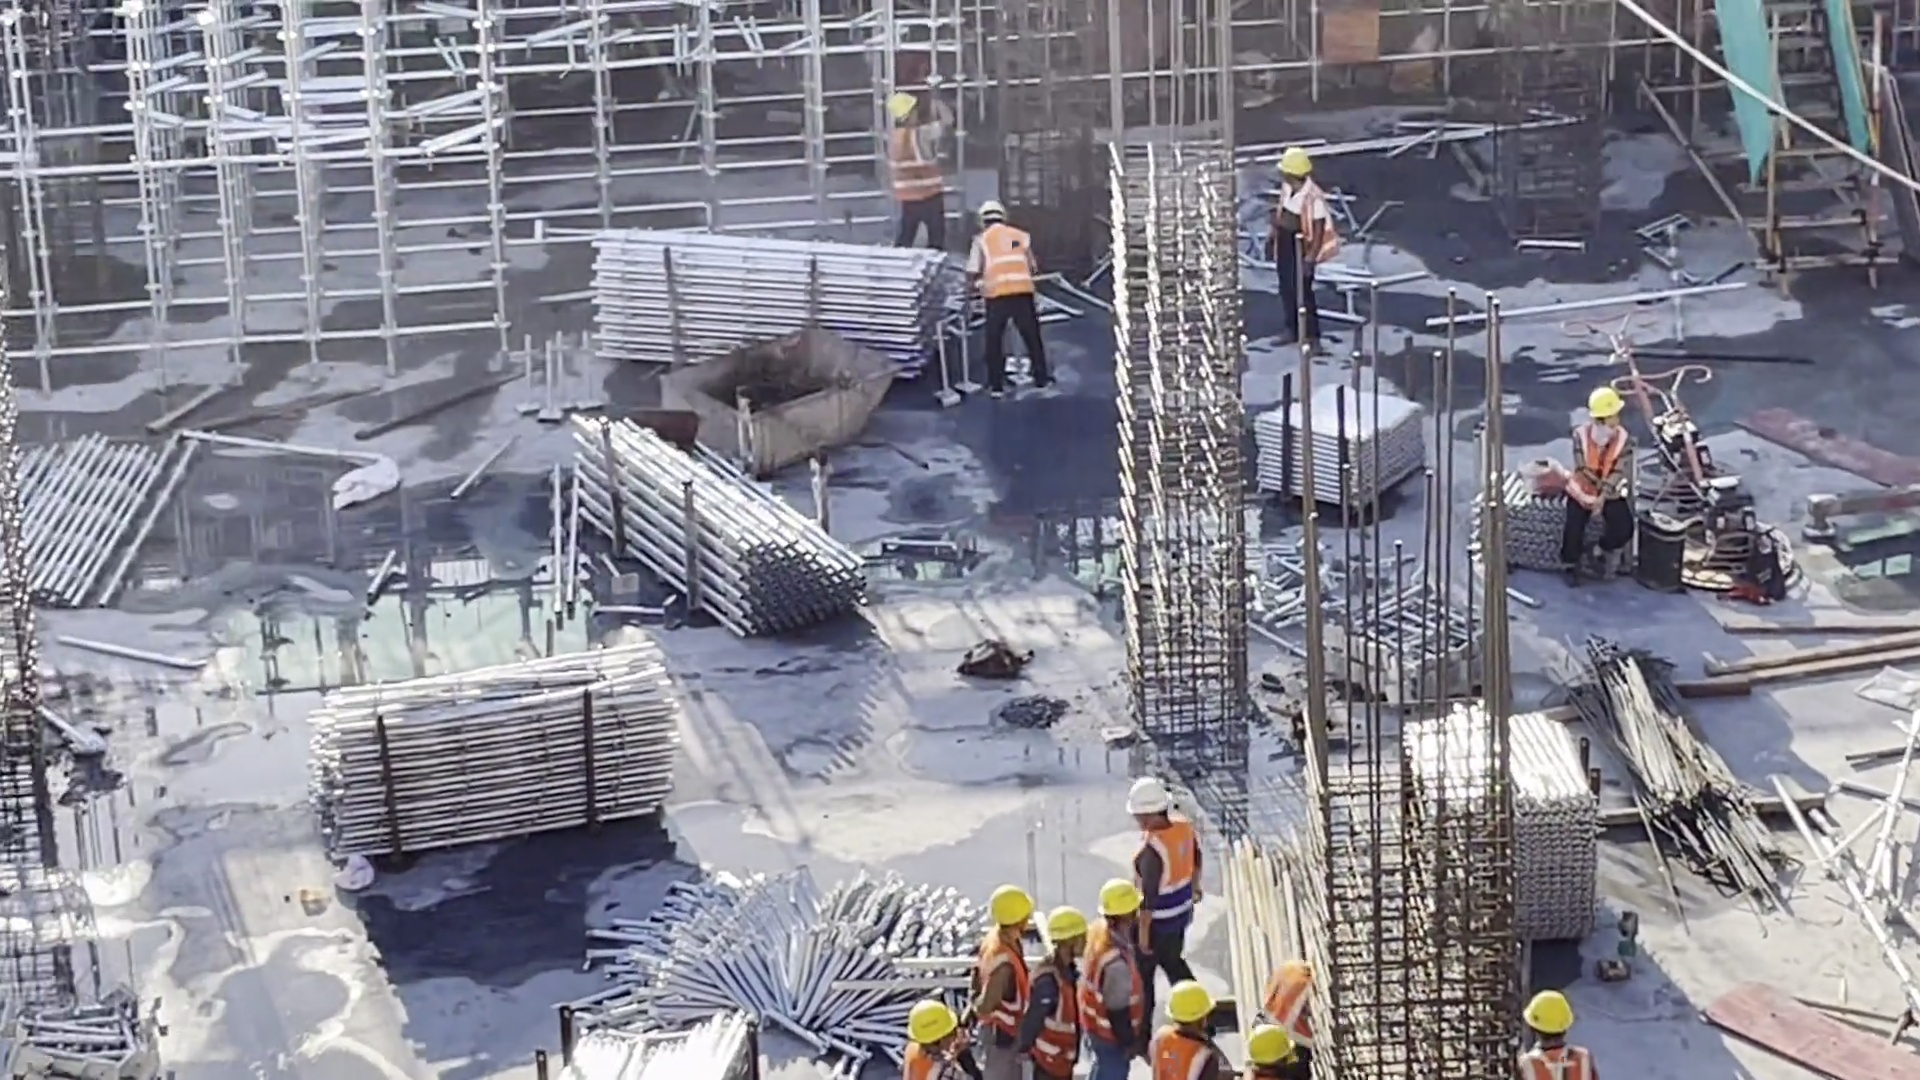helmet: (1138, 784, 1198, 851), (1104, 882, 1153, 954), (926, 1006, 1001, 1051), (974, 197, 1031, 249), (1261, 154, 1313, 206), (884, 89, 938, 132), (1593, 377, 1631, 436), (988, 879, 1036, 926), (1161, 982, 1226, 1014), (1526, 992, 1571, 1037), (1049, 916, 1089, 957), (1254, 1032, 1299, 1067)
hopper: (676, 319, 898, 477)
person: (888, 85, 969, 268), (973, 183, 1033, 408), (1286, 143, 1341, 383), (1129, 770, 1196, 943), (1581, 376, 1641, 571), (1036, 910, 1094, 1080), (1101, 890, 1129, 1066), (976, 868, 998, 1080), (1514, 998, 1569, 1080), (1166, 978, 1208, 1080), (901, 995, 945, 1080), (1246, 1026, 1289, 1080)
rebar: (1569, 635, 1813, 926)
scaffold: (573, 386, 853, 624), (326, 669, 709, 836), (613, 221, 978, 369), (1406, 719, 1589, 954), (1283, 381, 1423, 511), (1454, 471, 1593, 576)
vest: (1101, 944, 1171, 1049), (966, 212, 1039, 306), (1166, 827, 1228, 919), (889, 127, 946, 216), (1294, 201, 1346, 272), (998, 934, 1036, 1016), (1504, 1046, 1588, 1080), (908, 1044, 965, 1080), (1158, 1042, 1210, 1080), (1593, 451, 1626, 492)
